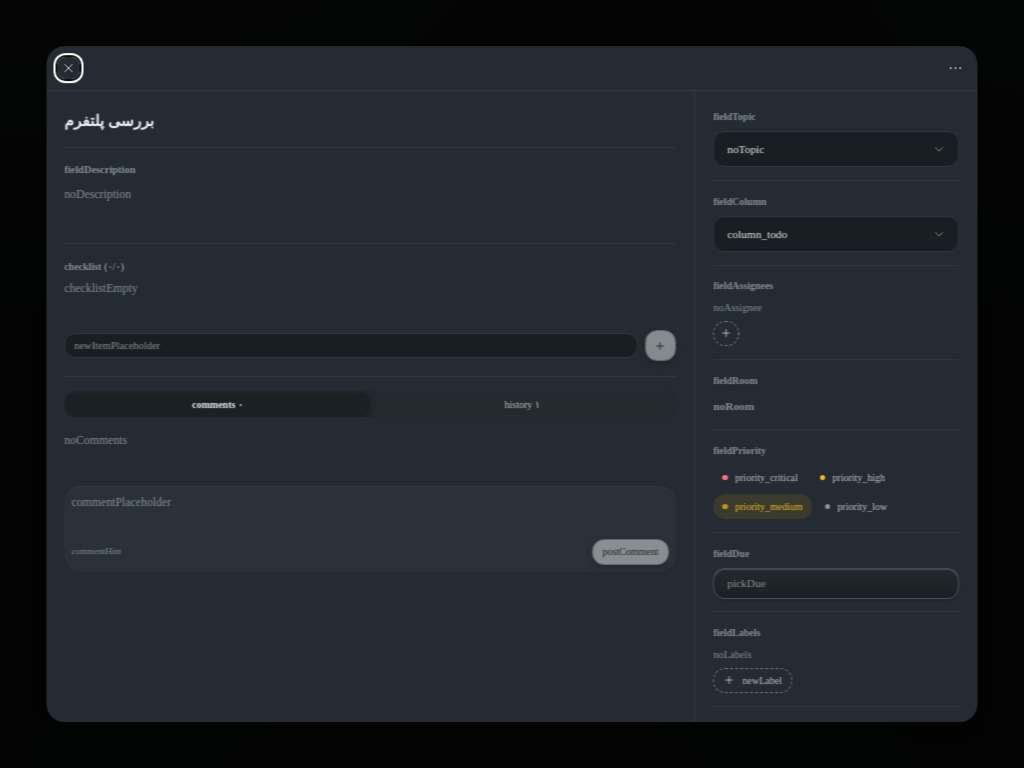
Test: the task's room — a member's reading › the history says which room, from the event's own detail
This screenshot has width=1024, height=768.
Click the tab "history ۱" at (523, 404), box [371,393,674,415]
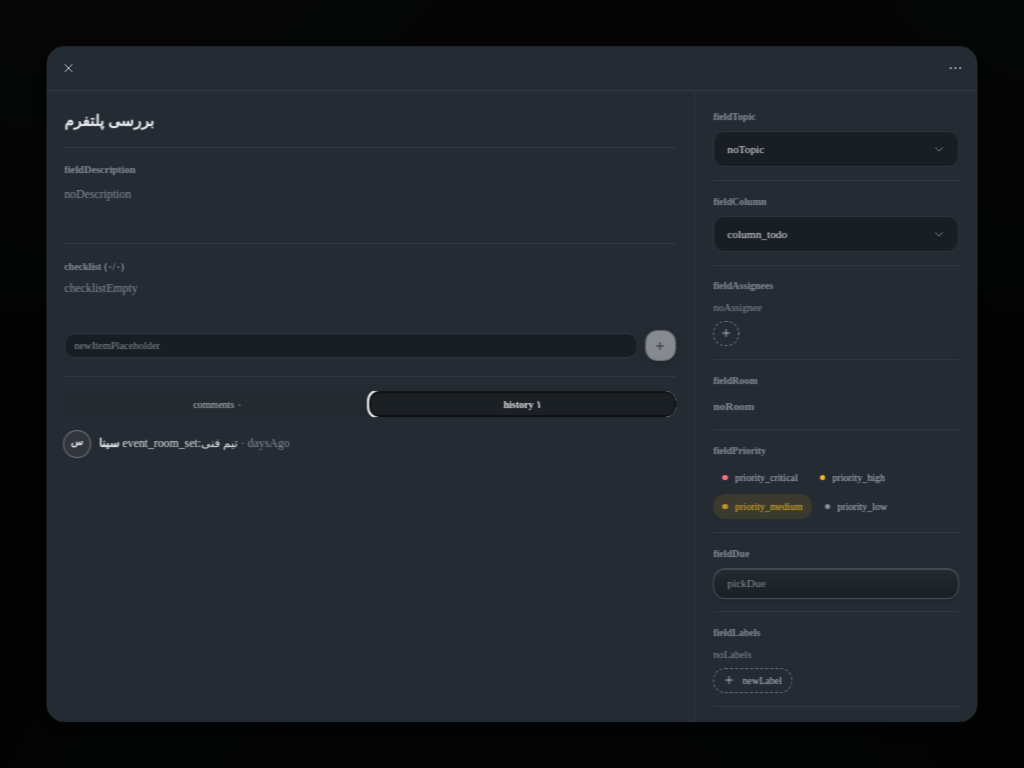
Expected: the text "سینا event_room_set:تیم فنی · daysAgo" is shown, [99,436,290,450]
